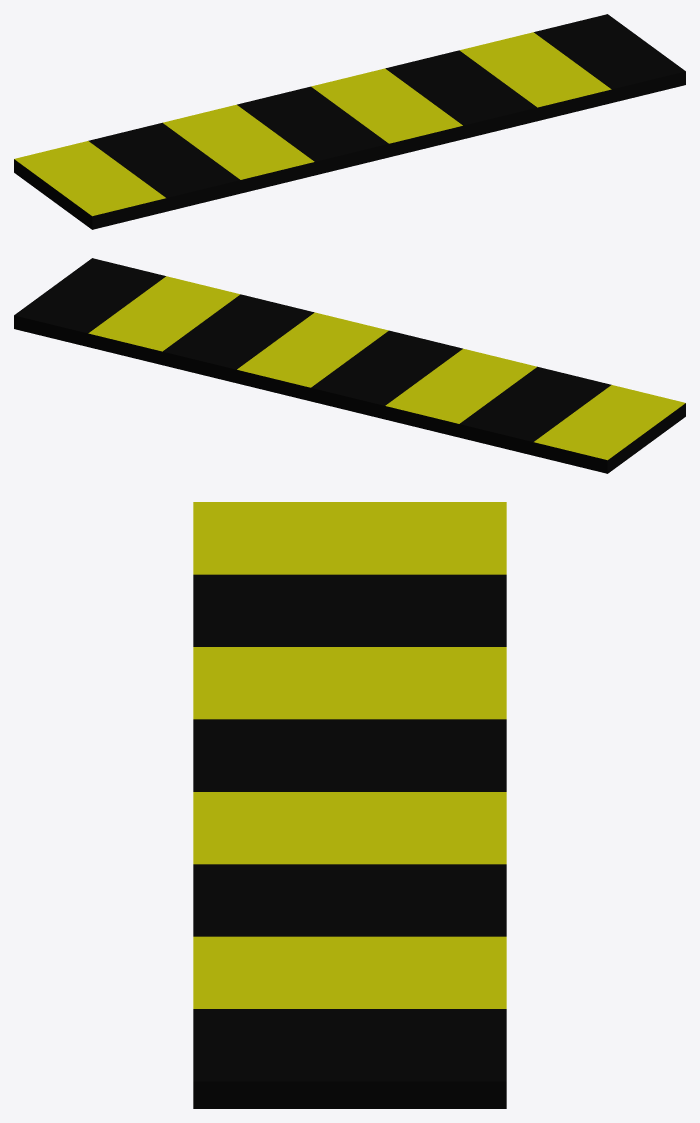
Rendered from finish line.fbx.
3 renders of one model, top to bottom at view 1: azimuth 30°, elevation 25°; view 2: azimuth 150°, elevation 25°; view 3: azimuth 270°, elevation 25°, orthographic. The views are drawn at different scales.
Parts seen in each view (by area): view 1: Cube; view 2: Cube; view 3: Cube.
Part boxes in pixels (x1=…): Cube: x1=14, y1=14, x2=685, y2=229; Cube: x1=14, y1=258, x2=685, y2=473; Cube: x1=193, y1=502, x2=506, y2=1108.
Size of the model in its own units: 876 by 19.25 by 200.
